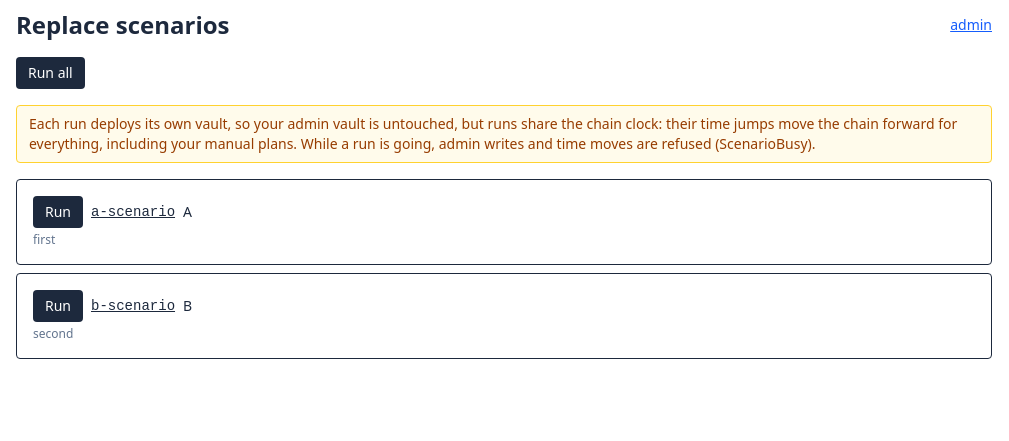
Test: ScenariosPage › shows each step chain time and events
This screenshot has width=1009, height=441.
What coordinates should you click on to do the following:
click the 1st button "Run"
I would click on:
 (58, 212)
Its box is [33,196,83,228].
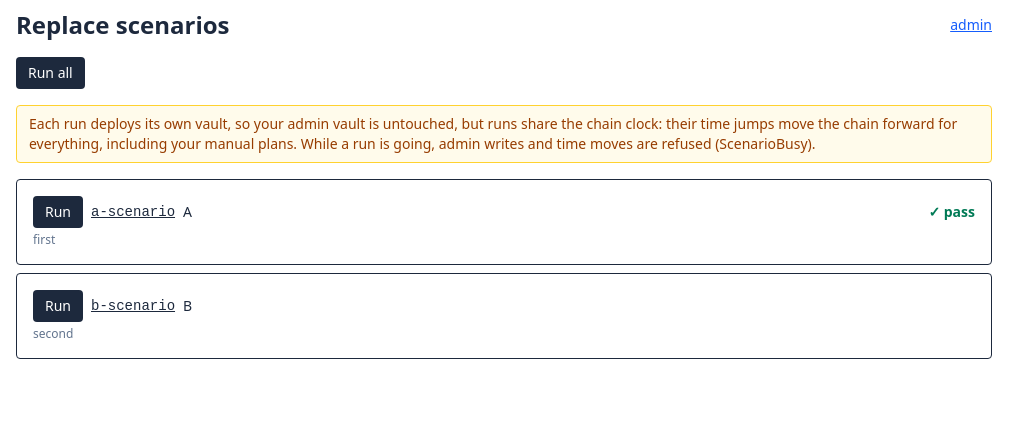
Expected: the text "✓ pass" is shown, [928,202,975,222]
What coordinates should you click on to do the following:
click the button "a-scenario"
I would click on:
 (133, 212)
Its box is [91,202,175,222].
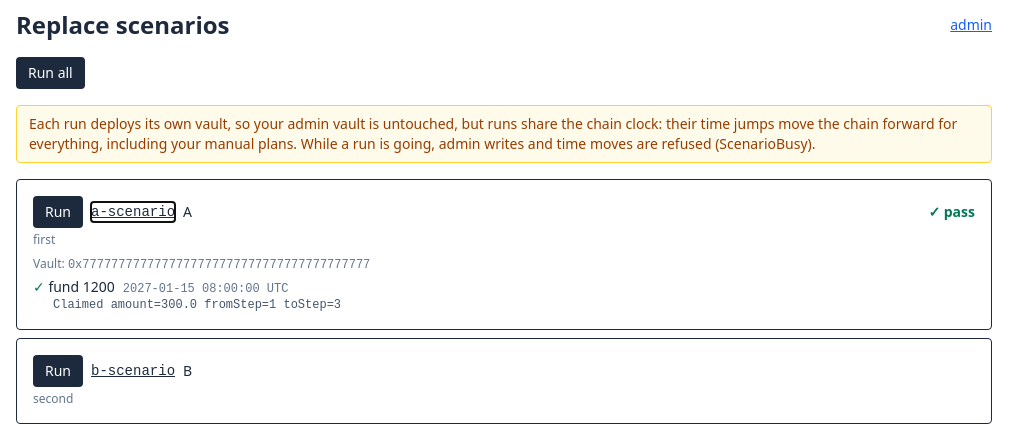
Expected: the text "2027-01-15 08:00:00 UTC" is shown, [123,282,288,296]
Expected: the list item "Claimed amount=300.0 fromStep=1 toStep=3" is shown, [53,298,341,312]
